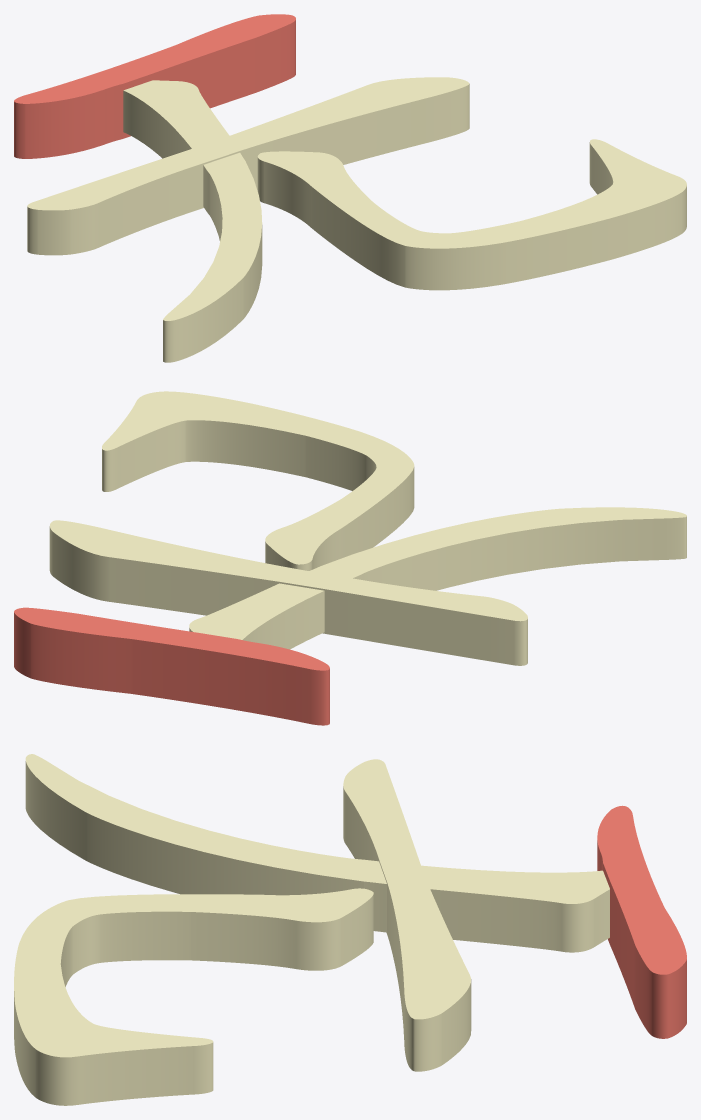
File: hanzi159.fbx
The picture shows the model from 3 angles, top to bottom: view 1: azimuth 30°, elevation 25°; view 2: azimuth 150°, elevation 25°; view 3: azimuth 270°, elevation 25°; orthographic projection. The views are drawn at different scales.
Parts seen in each view (by area): view 1: Curve.003, Curve.001, Curve, Curve.002; view 2: Curve.001, Curve.003, Curve.002, Curve; view 3: Curve.003, Curve.002, Curve.001, Curve.
Boxes of the visible parts, x1,y1,x2,y2 form: Curve.003: (257, 139, 686, 290); Curve.001: (27, 77, 469, 255); Curve: (14, 14, 295, 158); Curve.002: (123, 80, 262, 362); Curve.001: (49, 520, 527, 665); Curve.003: (102, 391, 414, 570); Curve.002: (189, 507, 686, 649); Curve: (14, 607, 329, 725); Curve.003: (14, 888, 373, 1105); Curve.002: (25, 754, 609, 952); Curve.001: (343, 759, 471, 1071); Curve: (597, 805, 686, 1038).
Bounding box in the file's own units: 22.52 × 21.12 × 2.22.
